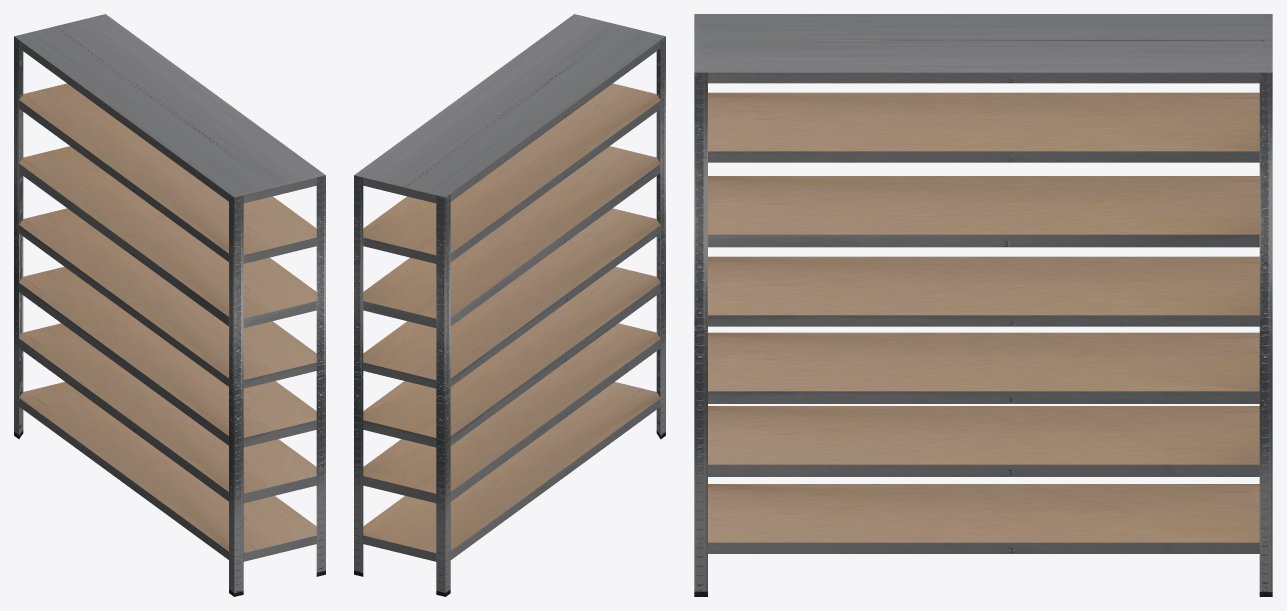
File: storage_shelf.fbx
3 views of the same model, side by side, from view 1: azimuth 30°, elevation 25°; view 2: azimuth 150°, elevation 25°; view 3: azimuth 270°, elevation 25° (orthographic). The views are drawn at different scales.
Visible parts, largest first — view 1: Storage Shelf; view 2: Storage Shelf; view 3: Storage Shelf.
Boxes of the visible parts, box(x1,y1,x2,y2) form: Storage Shelf: box(14, 14, 325, 596); Storage Shelf: box(354, 14, 665, 596); Storage Shelf: box(694, 14, 1272, 596).
Size of the model in its own units: 240 by 1000 by 1000.
